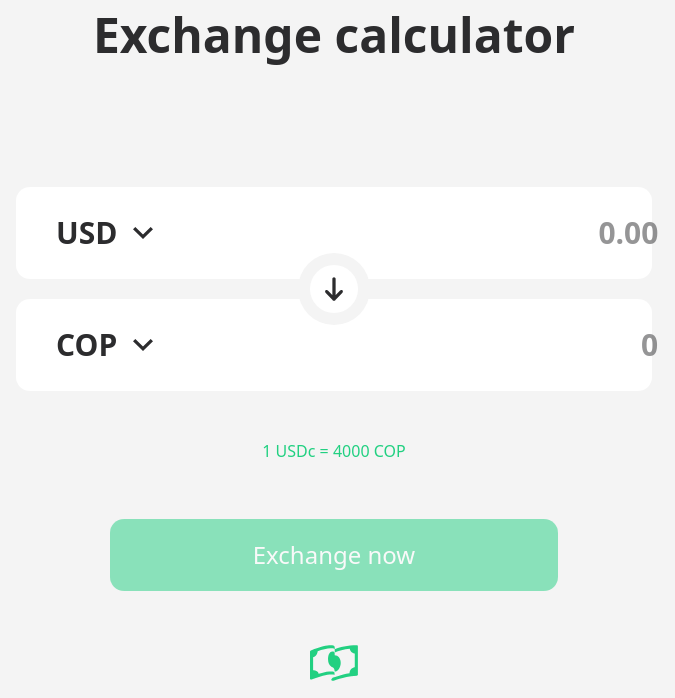
Test case: ExchangeCurrency › enables button when either side has a valid non-zero amount and cross rate exists
Type "10" into the field named "From amount in USD". click: [432, 233]
box: [205, 215, 658, 251]
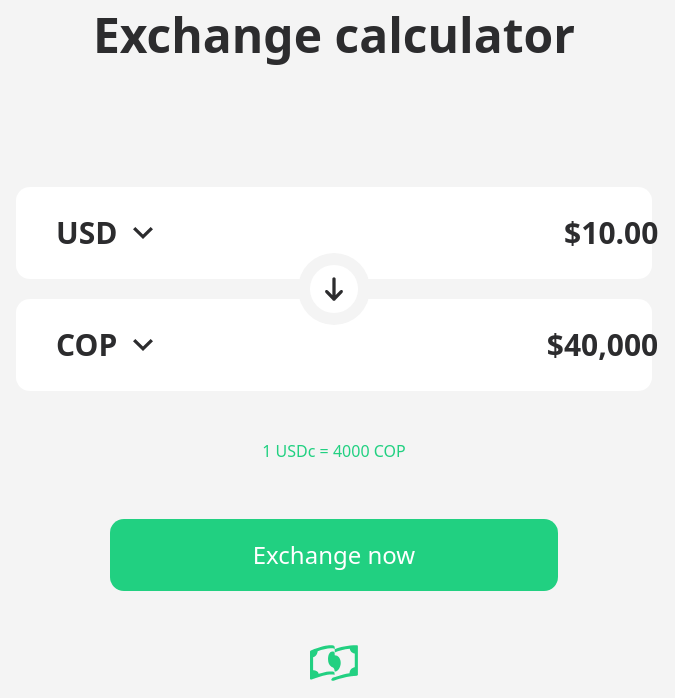
Result: the button "Exchange now" is enabled at [110, 519, 558, 591]
